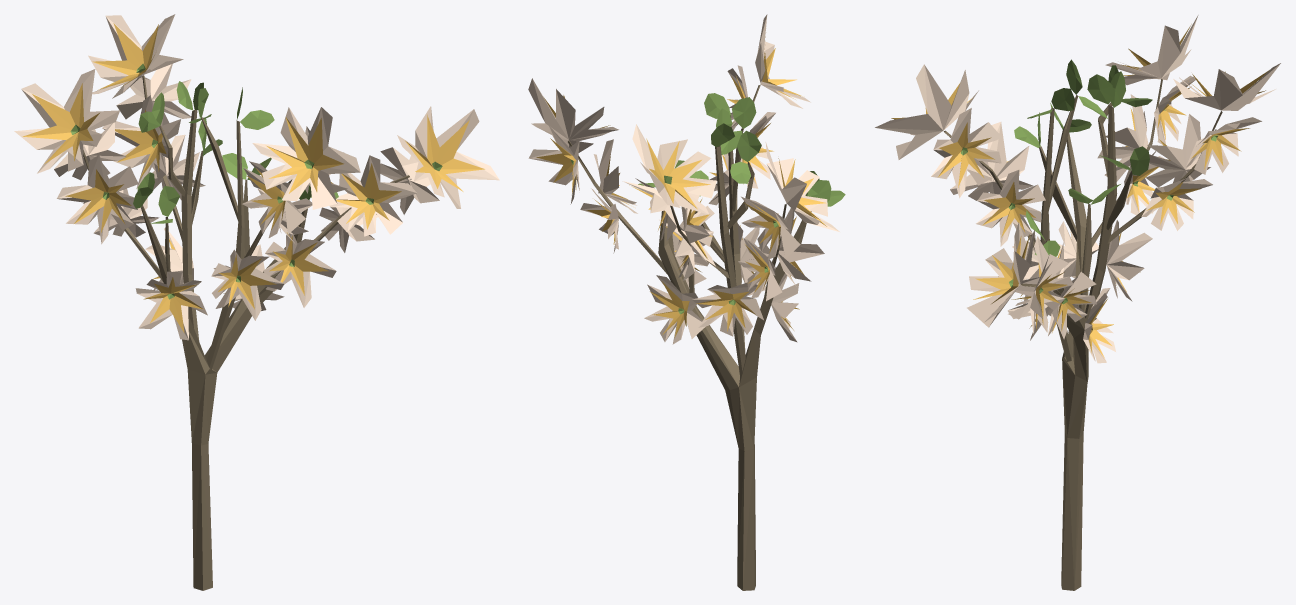
File: Cherry_3_3.fbx
3 renders of one model, left to right at view 1: azimuth 30°, elevation 25°; view 2: azimuth 150°, elevation 25°; view 3: azimuth 270°, elevation 25°, orthographic. The views are drawn at different scales.
Parts seen in each view (by area): view 1: Cherry_3_3; view 2: Cherry_3_3; view 3: Cherry_3_3.
Part boxes in pixels (left/top/right/bottom): Cherry_3_3: left=14, top=14, right=499, bottom=590; Cherry_3_3: left=528, top=14, right=845, bottom=590; Cherry_3_3: left=875, top=15, right=1280, bottom=590.
Size of the model in its own units: 238 by 305 by 206.
